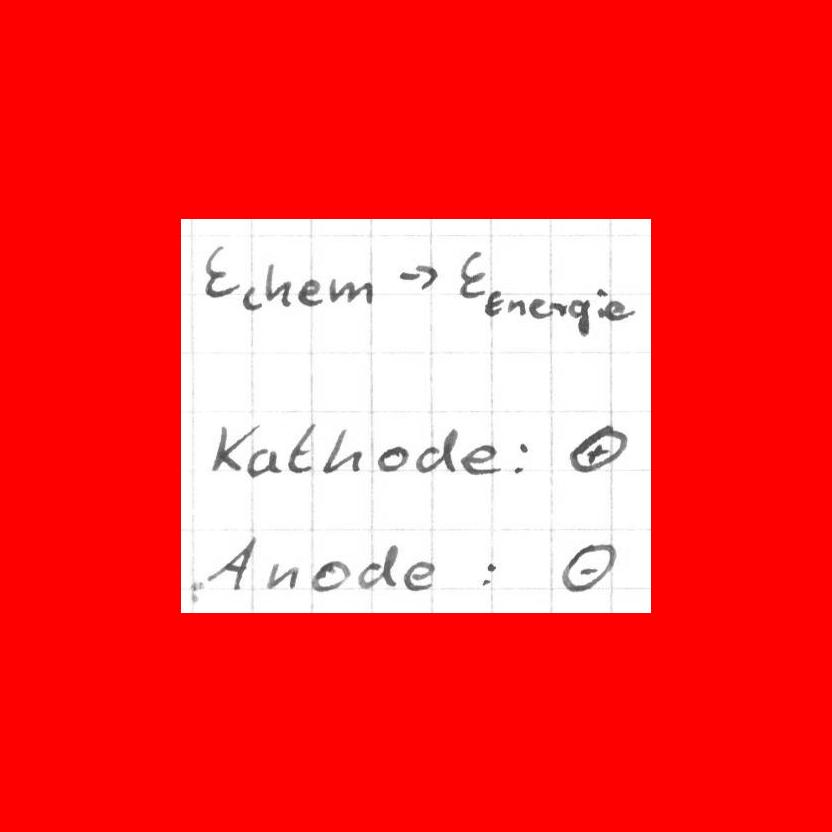Char: (566, 423, 627, 475), (560, 540, 615, 593), (203, 540, 254, 589), (414, 424, 460, 476), (211, 420, 256, 472), (353, 543, 400, 592), (200, 241, 237, 302), (321, 424, 364, 475), (455, 244, 488, 303), (285, 421, 318, 470), (309, 557, 351, 592), (328, 275, 372, 308), (460, 442, 502, 476), (264, 258, 292, 307), (396, 262, 439, 292), (246, 445, 282, 479), (402, 560, 435, 593), (264, 561, 299, 592), (375, 443, 408, 473), (529, 295, 565, 321), (568, 296, 591, 336), (604, 293, 633, 324), (297, 278, 323, 307), (482, 287, 506, 318), (511, 439, 531, 475), (476, 557, 500, 586), (241, 282, 263, 311), (594, 286, 607, 321), (507, 296, 527, 316)
